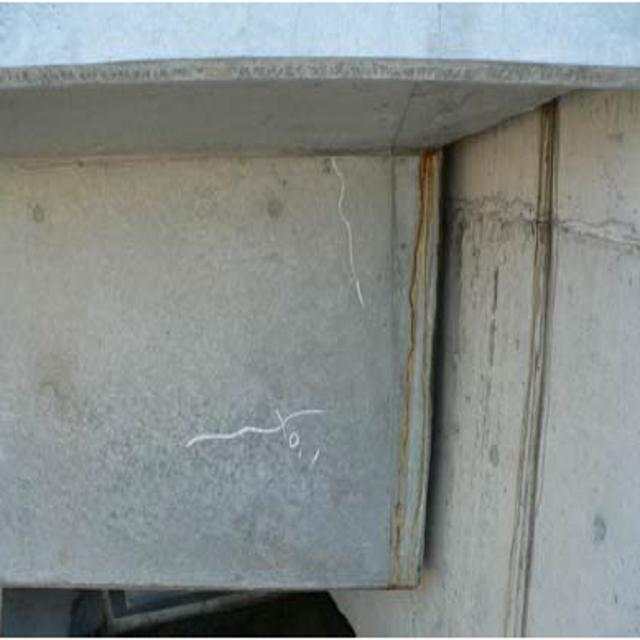crack: (174, 392, 350, 502)
